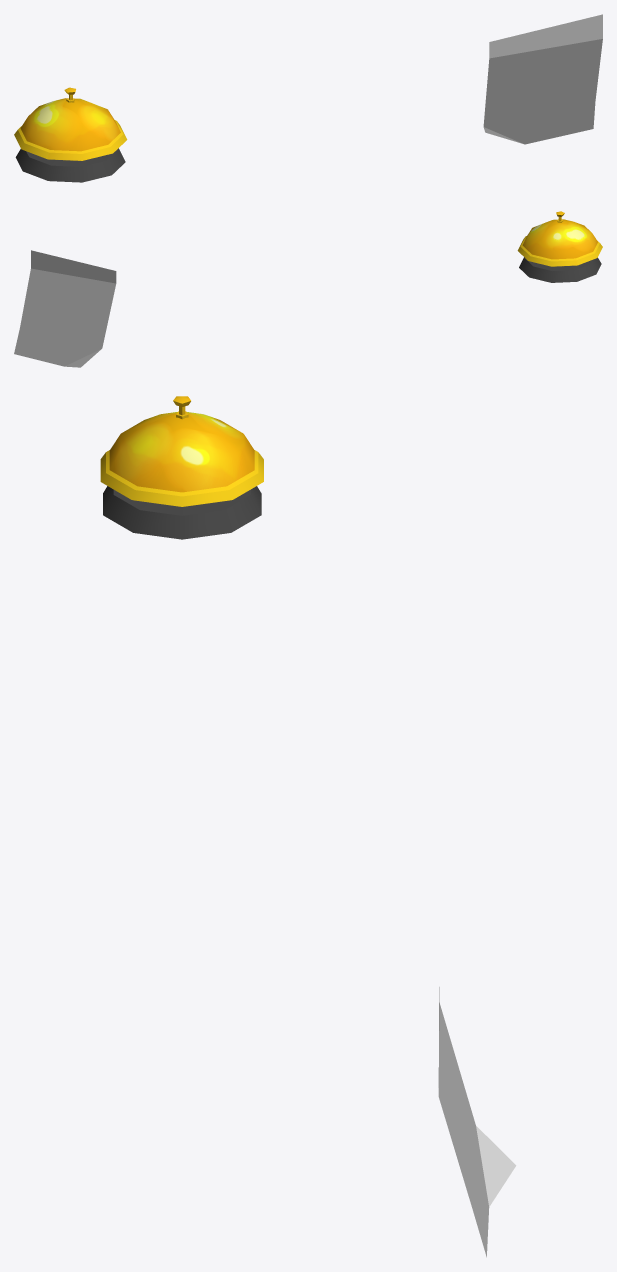
Rendered from bell_and_note.fbx.
The picture shows the model from 3 angles, top to bottom: view 1: azimuth 30°, elevation 25°; view 2: azimuth 150°, elevation 25°; view 3: azimuth 270°, elevation 25°; orthographic projection. The views are drawn at different scales.
Parts seen in each view (by area): view 1: pPlane40, polySurface86; view 2: pPlane40, polySurface86; view 3: polySurface86, pPlane40.
Part boxes in pixels (x1=…): pPlane40: x1=483, y1=14, x2=602, y2=144; polySurface86: x1=14, y1=87, x2=127, y2=182; pPlane40: x1=14, y1=250, x2=116, y2=367; polySurface86: x1=517, y1=211, x2=602, y2=282; polySurface86: x1=100, y1=396, x2=263, y2=539; pPlane40: x1=438, y1=987, x2=516, y2=1257.
Bounding box in the file's own units: 1.54 × 0.5836 × 0.5466.
